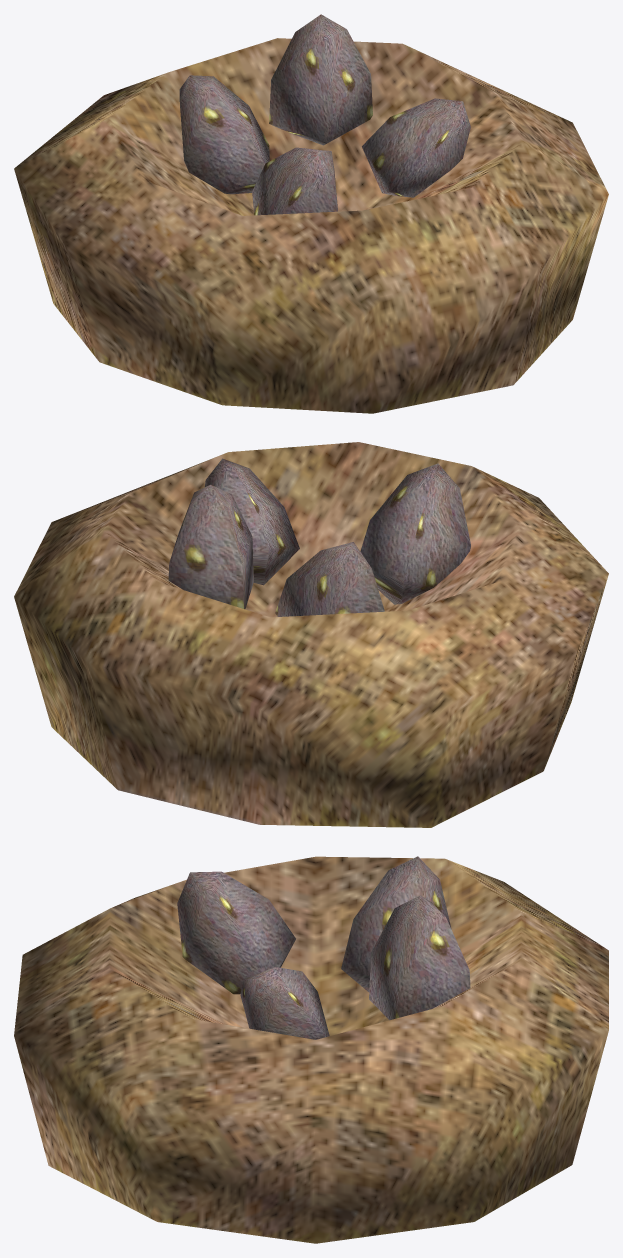
The model's file is poi_all_lair_nest_tree_l2.fbx.
3 views of the same model, one above another, from view 1: azimuth 30°, elevation 25°; view 2: azimuth 150°, elevation 25°; view 3: azimuth 270°, elevation 25° (orthographic). The views are drawn at different scales.
Parts seen in each view (by area): view 1: mesh_node; view 2: mesh_node; view 3: mesh_node.
Boxes of the visible parts, left/top/right/bottom form: mesh_node: left=14, top=14, right=608, bottom=413; mesh_node: left=14, top=442, right=608, bottom=827; mesh_node: left=14, top=856, right=608, bottom=1243.
Size of the model in its own units: 2.79 by 1.33 by 2.68.
